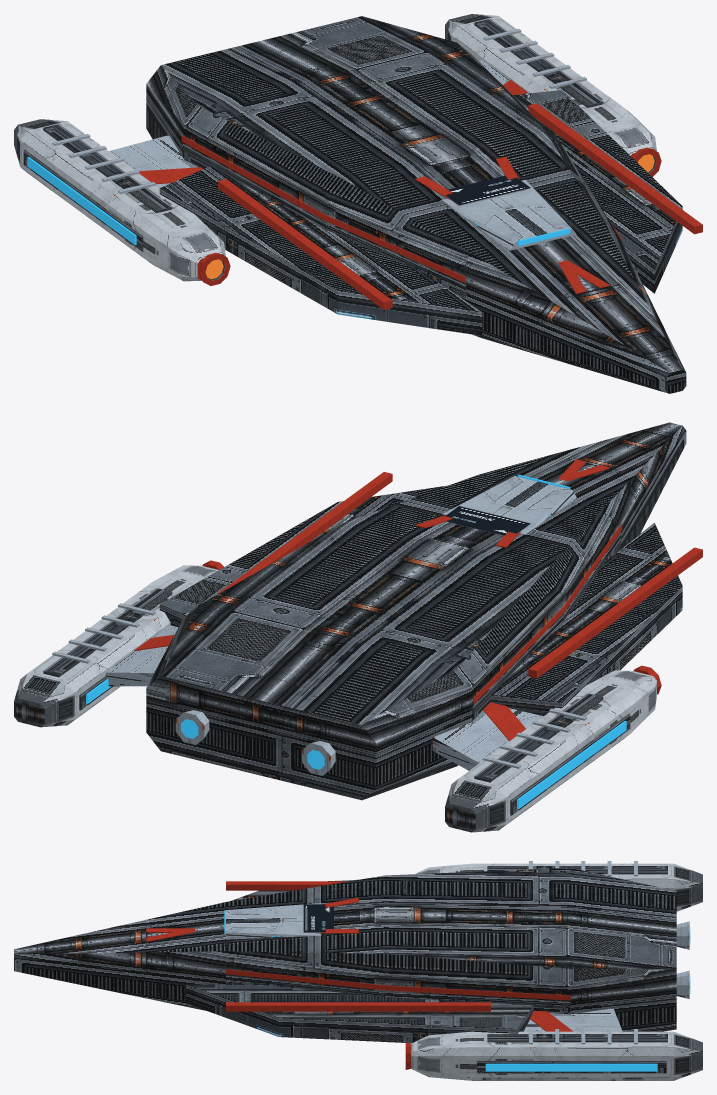
The model's file is shrike.glb.
3 views of the same model, one above another, from view 1: azimuth 30°, elevation 25°; view 2: azimuth 150°, elevation 25°; view 3: azimuth 270°, elevation 25° (orthographic). The views are drawn at different scales.
Parts seen in each view (by area): view 1: shrike; view 2: shrike; view 3: shrike.
Boxes of the visible parts, x1=… form: shrike: x1=14, y1=14, x2=702, y2=393; shrike: x1=14, y1=422, x2=702, y2=832; shrike: x1=14, y1=861, x2=702, y2=1080.
Size of the model in its own units: 34.2 by 7 by 52.
7 materials, 5 textured.
